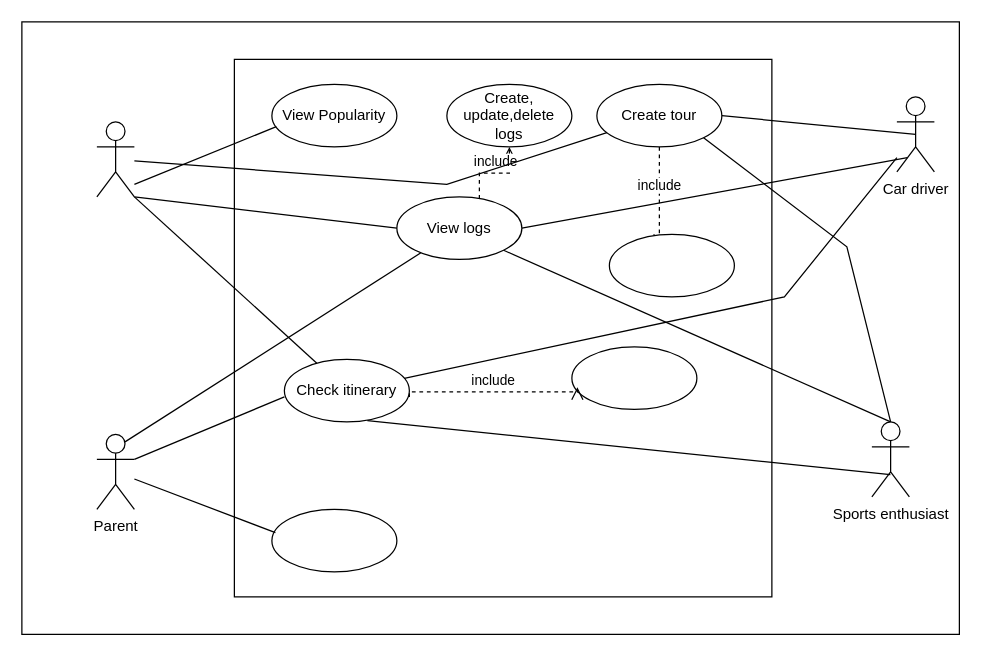
Some shapes in this 981 by 656 pixel diagram are drawn without their labels. Here are the shapes that lost their labels. From the top down, the centre of each, then its label:
[115,159]: Tourist
[671,265]: Update tour
[634,377]: Duration
[334,540]: Check childfriendliness
